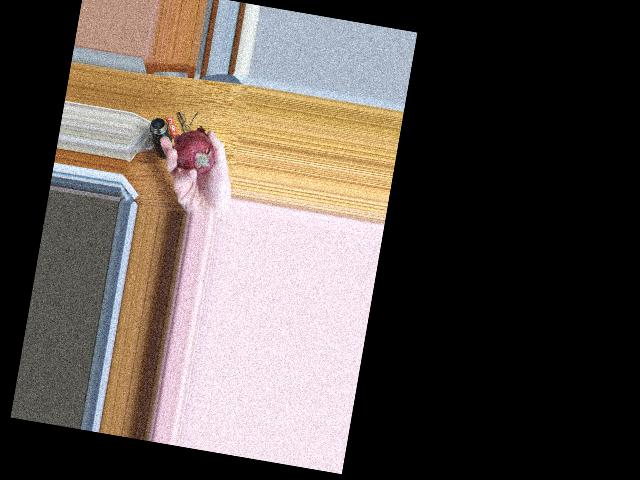onion: (173, 132, 218, 175)
